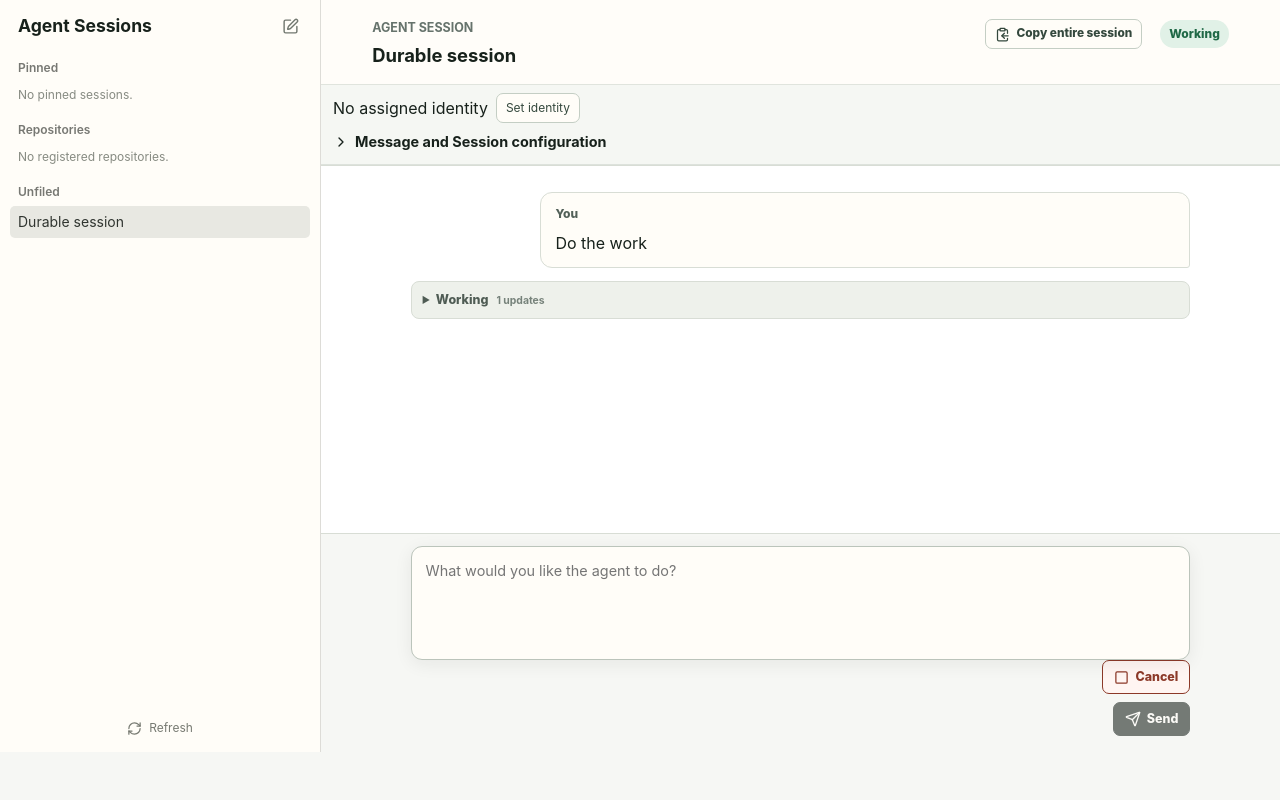
it: AgentSessionScreen › reloads completed history after a correlated update and lets the user expand processing
Expected: the text "Reading files" is not shown
Click the text "Working".
click(462, 299)  # box [436,292,488,307]
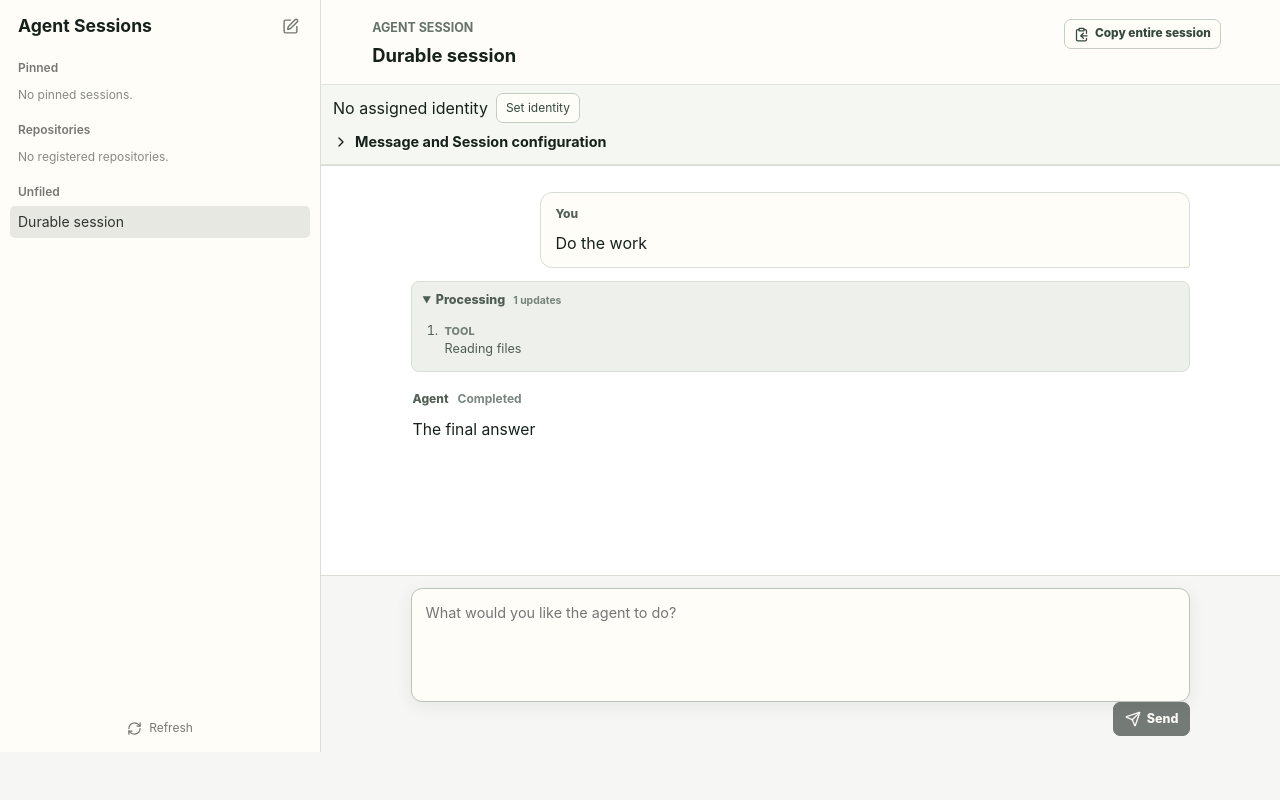
Expected: the text "The final answer" is shown, [413,420,535,438]
Expected: the text "Reading files" is shown, [445,341,522,356]
Click the text "Processing".
click(470, 299)  # box [436,292,505,307]
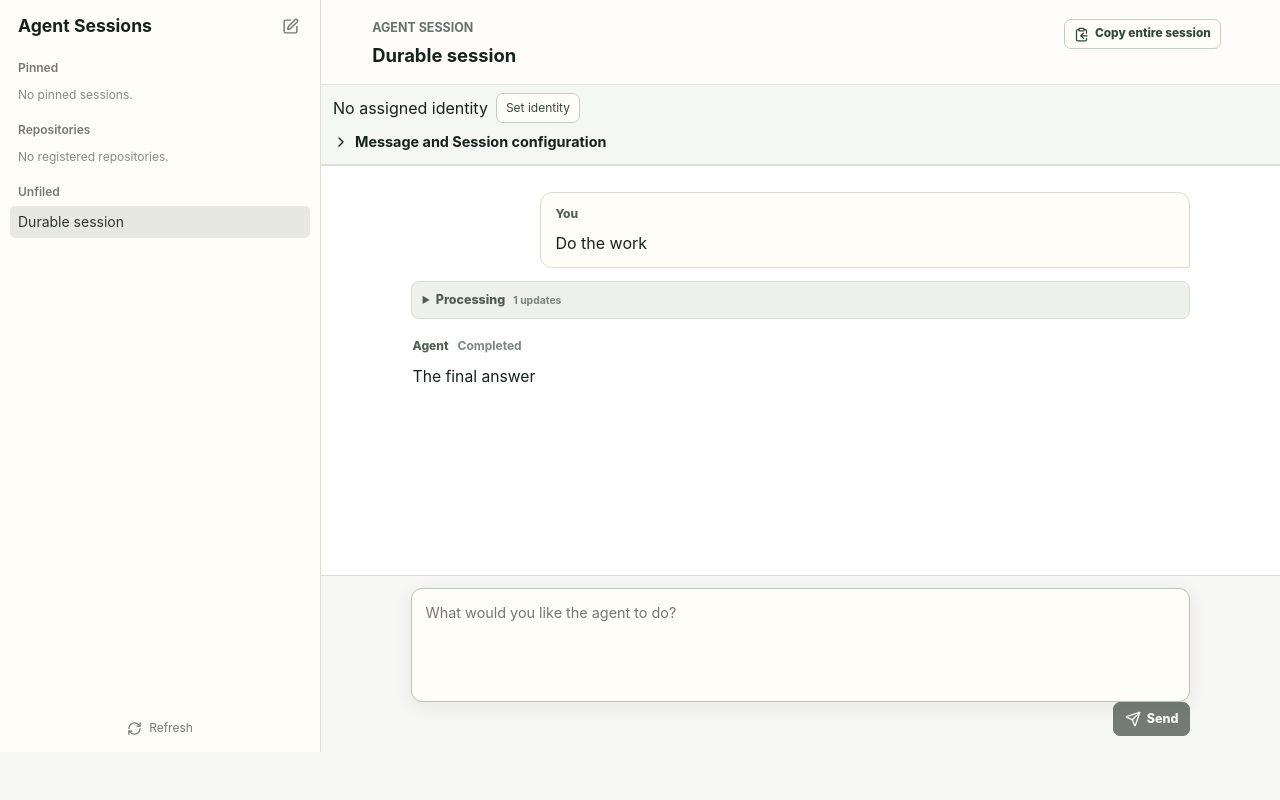
Expected: the text "Reading files" is gone
